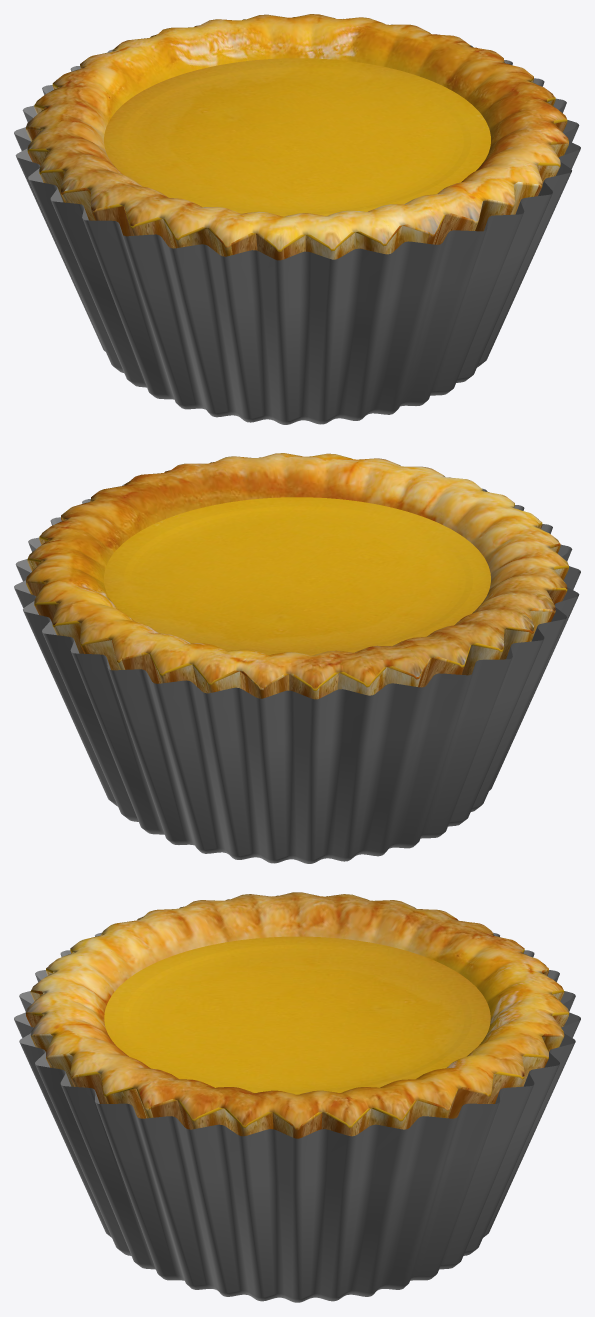
File: eggtart_metal.glb
The picture shows the model from 3 angles, top to bottom: view 1: azimuth 30°, elevation 25°; view 2: azimuth 150°, elevation 25°; view 3: azimuth 270°, elevation 25°; orthographic projection.
Visible parts, largest first — view 1: tart, outer; view 2: tart, outer; view 3: tart, outer.
Boxes of the visible parts, x1=… form: tart: x1=26, y1=14, x2=568, y2=260; outer: x1=14, y1=45, x2=580, y2=424; tart: x1=26, y1=453, x2=568, y2=699; outer: x1=14, y1=484, x2=580, y2=863; tart: x1=25, y1=892, x2=569, y2=1138; outer: x1=14, y1=932, x2=580, y2=1302.
Size of the model in its own units: 1.98 by 0.8782 by 1.98.
Materials: 4 (3 with a texture image).
